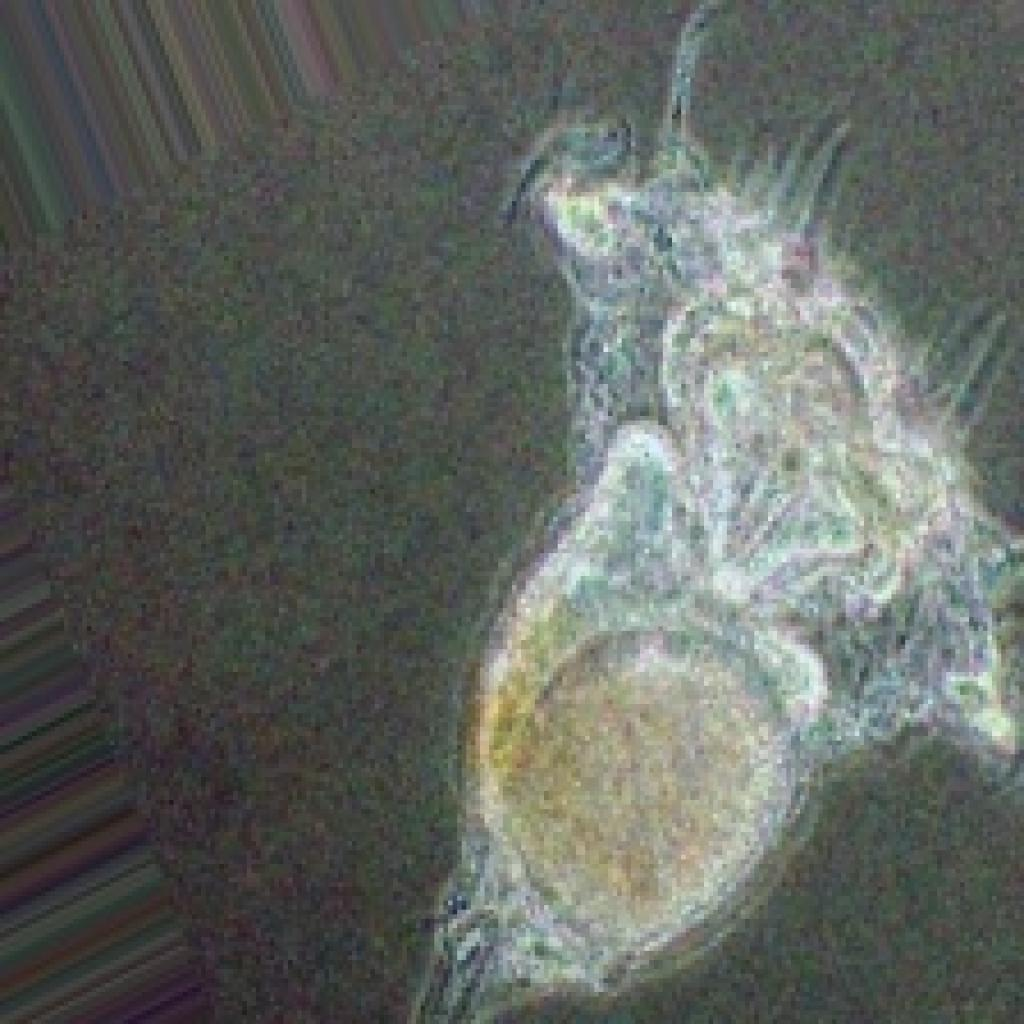Rotifer: (321, 54, 1023, 1024)
